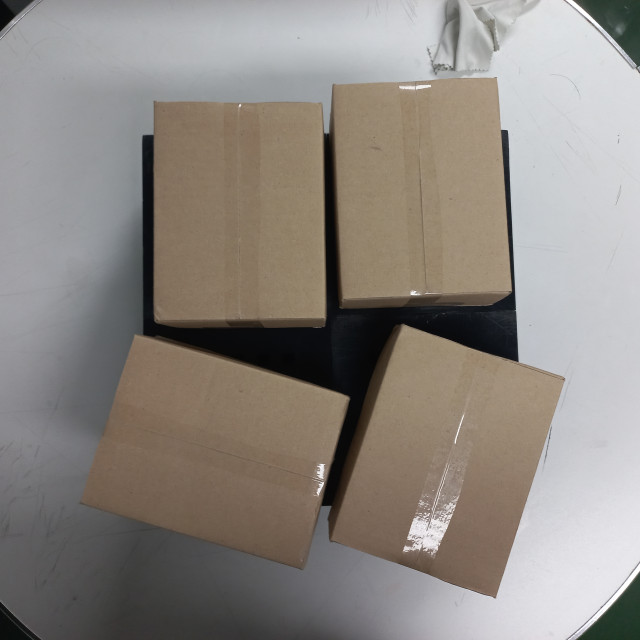box: (330, 322, 566, 603), (77, 331, 350, 570), (327, 75, 513, 305), (150, 100, 328, 327)
